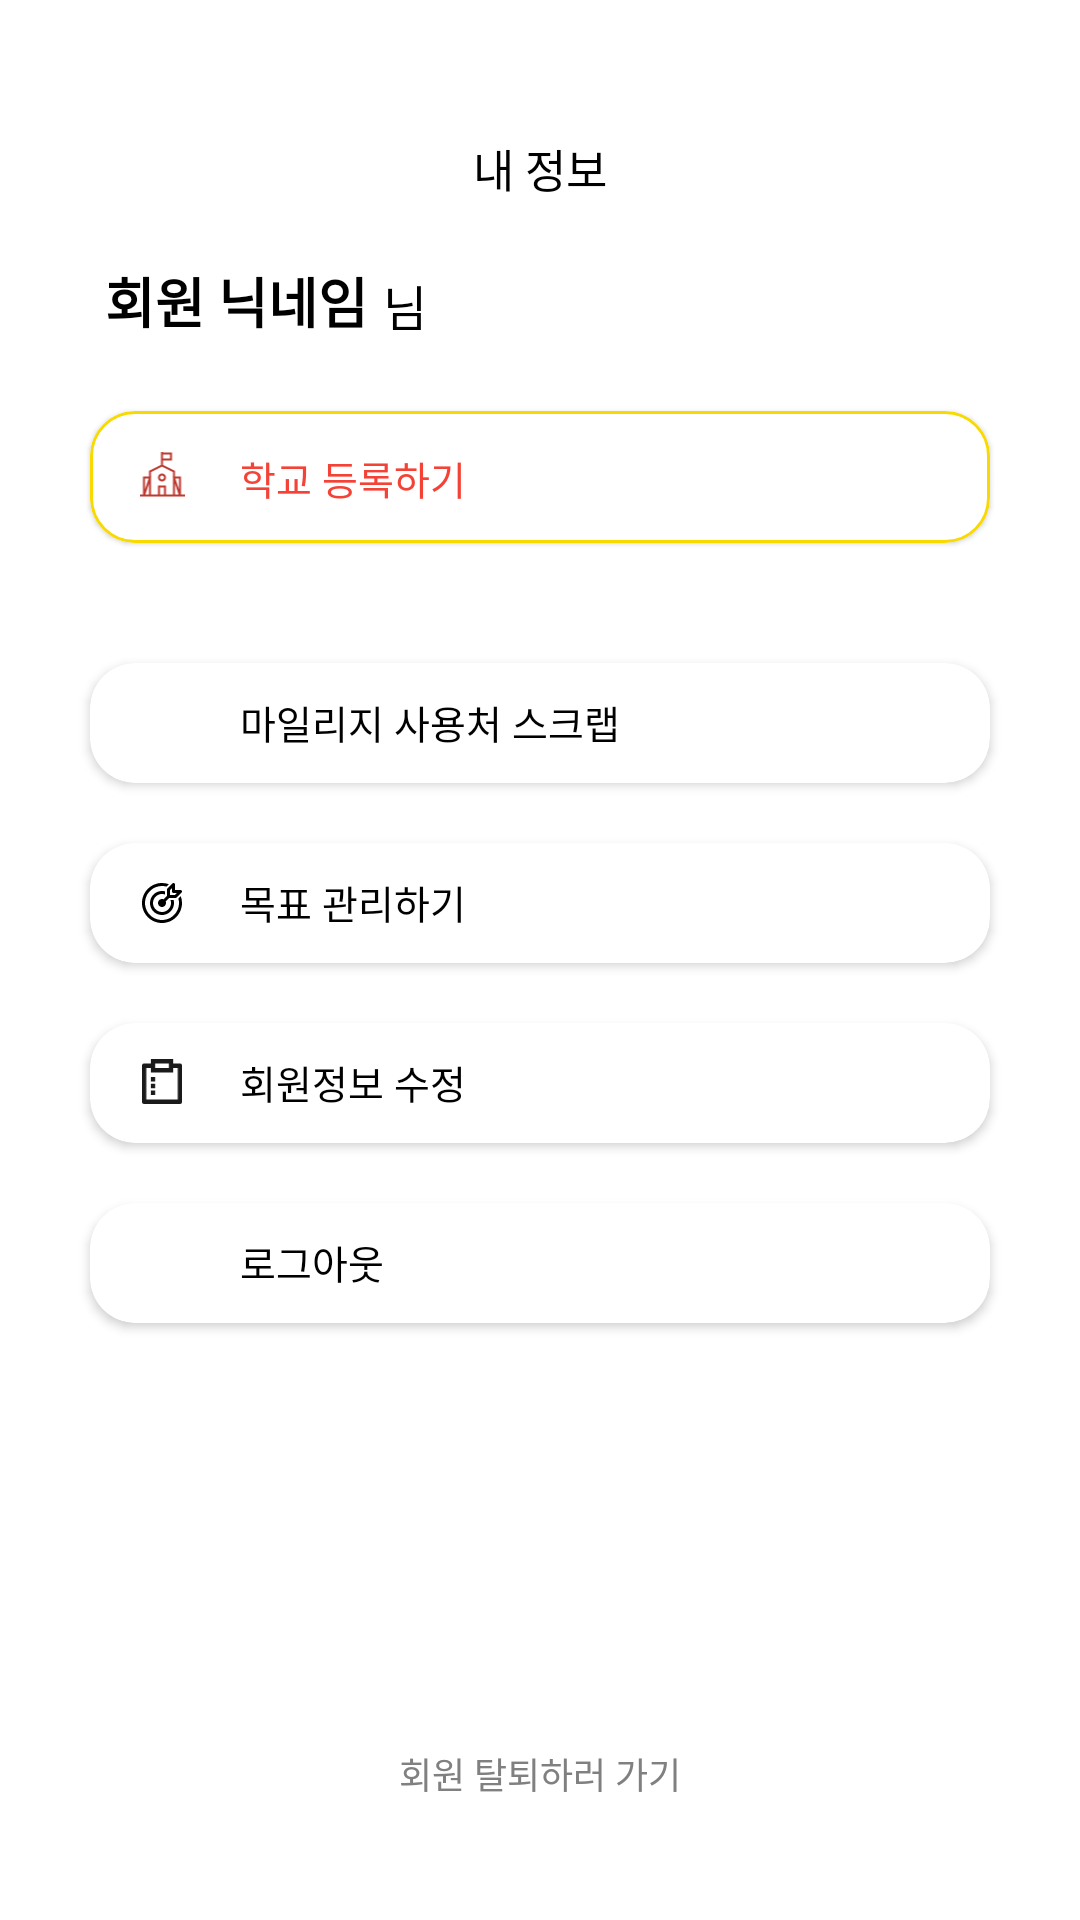

Icon click points for this 1080 × 1920 phone screenshot, format (x,y):
fluent target arrow: (162,903)
teenyicons school: (162,474)
